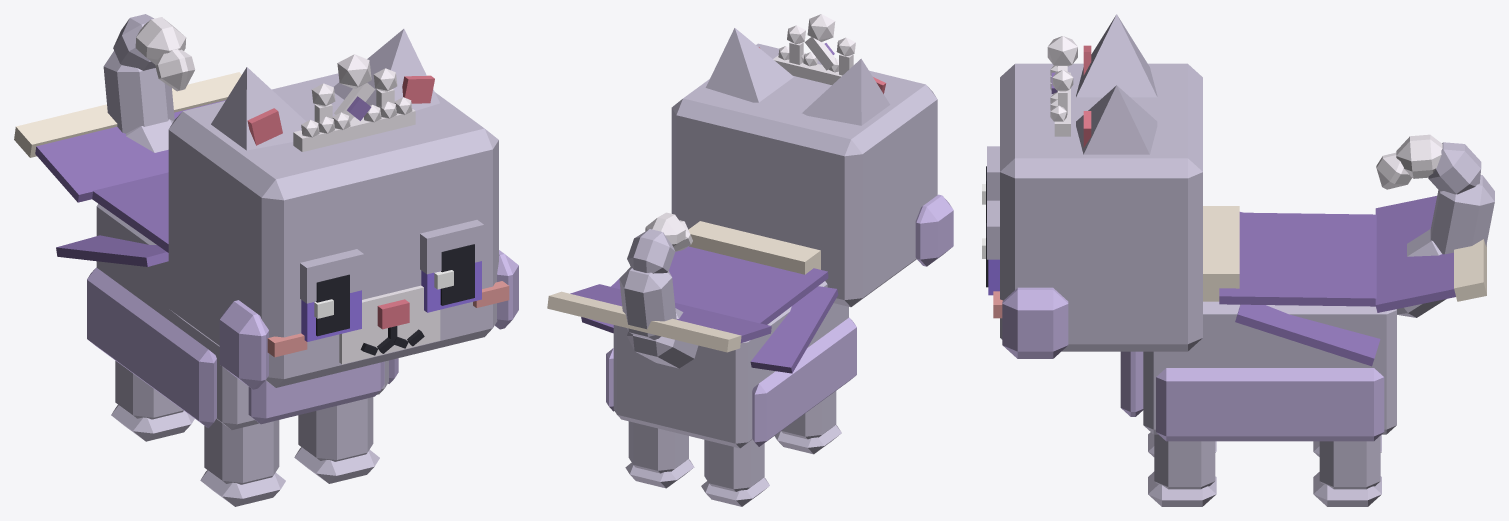
Rendered from CatCafe_Cat_DuchessMarzipan.glb.
The picture shows the model from 3 angles, left to right: view 1: azimuth 30°, elevation 25°; view 2: azimuth 150°, elevation 25°; view 3: azimuth 270°, elevation 25°; orthographic projection. The views are drawn at different scales.
Visible parts, largest first — view 1: CatCafe_Cat_DuchessMarzipan_Head, CatCafe_Cat_DuchessMarzipan_Body, CatCafe_Cat_DuchessMarzipan_Prop2, CatCafe_Cat_DuchessMarzipan_Tail, CatCafe_Cat_DuchessMarzipan_Prop, CatCafe_Cat_DuchessMarzipan_LegF2, CatCafe_Cat_DuchessMarzipan_LegF1, CatCafe_Cat_DuchessMarzipan_Eye2, CatCafe_Cat_DuchessMarzipan_Eye1, CatCafe_Cat_DuchessMarzipan_EarR, CatCafe_Cat_DuchessMarzipan_LegB2, CatCafe_Cat_DuchessMarzipan_EarL; view 2: CatCafe_Cat_DuchessMarzipan_Head, CatCafe_Cat_DuchessMarzipan_Prop2, CatCafe_Cat_DuchessMarzipan_Body, CatCafe_Cat_DuchessMarzipan_Tail, CatCafe_Cat_DuchessMarzipan_EarL, CatCafe_Cat_DuchessMarzipan_LegB2, CatCafe_Cat_DuchessMarzipan_Prop, CatCafe_Cat_DuchessMarzipan_LegB1, CatCafe_Cat_DuchessMarzipan_EarR, CatCafe_Cat_DuchessMarzipan_LegF2; view 3: CatCafe_Cat_DuchessMarzipan_Head, CatCafe_Cat_DuchessMarzipan_Body, CatCafe_Cat_DuchessMarzipan_Prop2, CatCafe_Cat_DuchessMarzipan_Tail, CatCafe_Cat_DuchessMarzipan_LegF1, CatCafe_Cat_DuchessMarzipan_LegB1, CatCafe_Cat_DuchessMarzipan_EarR, CatCafe_Cat_DuchessMarzipan_EarL, CatCafe_Cat_DuchessMarzipan_Prop, CatCafe_Cat_DuchessMarzipan_Eye1, CatCafe_Cat_DuchessMarzipan_Eye2.
Boxes of the visible parts, bbox=[...] form: CatCafe_Cat_DuchessMarzipan_Head: bbox=[168, 73, 518, 389]; CatCafe_Cat_DuchessMarzipan_Body: bbox=[87, 204, 398, 429]; CatCafe_Cat_DuchessMarzipan_Prop2: bbox=[14, 72, 241, 266]; CatCafe_Cat_DuchessMarzipan_Tail: bbox=[103, 14, 195, 152]; CatCafe_Cat_DuchessMarzipan_Prop: bbox=[293, 54, 415, 151]; CatCafe_Cat_DuchessMarzipan_LegF2: bbox=[200, 419, 285, 506]; CatCafe_Cat_DuchessMarzipan_LegF1: bbox=[294, 397, 379, 483]; CatCafe_Cat_DuchessMarzipan_Eye2: bbox=[300, 249, 363, 341]; CatCafe_Cat_DuchessMarzipan_Eye1: bbox=[420, 220, 484, 312]; CatCafe_Cat_DuchessMarzipan_EarR: bbox=[211, 67, 306, 150]; CatCafe_Cat_DuchessMarzipan_LegB2: bbox=[111, 360, 194, 441]; CatCafe_Cat_DuchessMarzipan_EarL: bbox=[333, 29, 439, 110]; CatCafe_Cat_DuchessMarzipan_Head: bbox=[671, 43, 953, 307]; CatCafe_Cat_DuchessMarzipan_Prop2: bbox=[547, 221, 838, 373]; CatCafe_Cat_DuchessMarzipan_Body: bbox=[606, 281, 856, 448]; CatCafe_Cat_DuchessMarzipan_Tail: bbox=[619, 212, 698, 368]; CatCafe_Cat_DuchessMarzipan_EarL: bbox=[705, 28, 793, 102]; CatCafe_Cat_DuchessMarzipan_LegB2: bbox=[701, 439, 769, 506]; CatCafe_Cat_DuchessMarzipan_Prop: bbox=[773, 14, 867, 84]; CatCafe_Cat_DuchessMarzipan_LegB1: bbox=[625, 421, 694, 488]; CatCafe_Cat_DuchessMarzipan_EarR: bbox=[802, 58, 890, 125]; CatCafe_Cat_DuchessMarzipan_LegF2: bbox=[774, 391, 841, 454]; CatCafe_Cat_DuchessMarzipan_Head: bbox=[993, 63, 1202, 358]; CatCafe_Cat_DuchessMarzipan_Body: bbox=[1120, 301, 1396, 441]; CatCafe_Cat_DuchessMarzipan_Prop2: bbox=[1203, 196, 1486, 366]; CatCafe_Cat_DuchessMarzipan_Tail: bbox=[1376, 134, 1494, 317]; CatCafe_Cat_DuchessMarzipan_LegF1: bbox=[1148, 434, 1216, 506]; CatCafe_Cat_DuchessMarzipan_LegB1: bbox=[1313, 436, 1381, 506]; CatCafe_Cat_DuchessMarzipan_EarR: bbox=[1076, 14, 1157, 97]; CatCafe_Cat_DuchessMarzipan_EarL: bbox=[1076, 85, 1157, 154]; CatCafe_Cat_DuchessMarzipan_Prop: bbox=[1047, 36, 1077, 136]; CatCafe_Cat_DuchessMarzipan_Eye1: bbox=[982, 200, 999, 295]; CatCafe_Cat_DuchessMarzipan_Eye2: bbox=[982, 146, 999, 222].
Size of the model in its own units: 1.18 by 1.92 by 2.02.
1 material, 1 textured.
